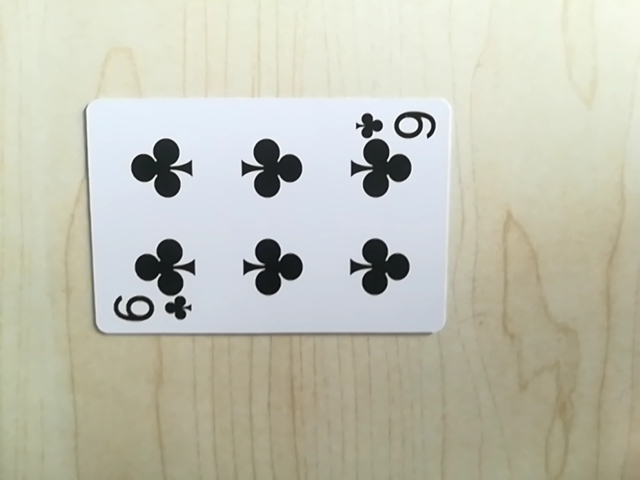mh 6: (106, 291, 193, 328), (353, 107, 439, 142)
